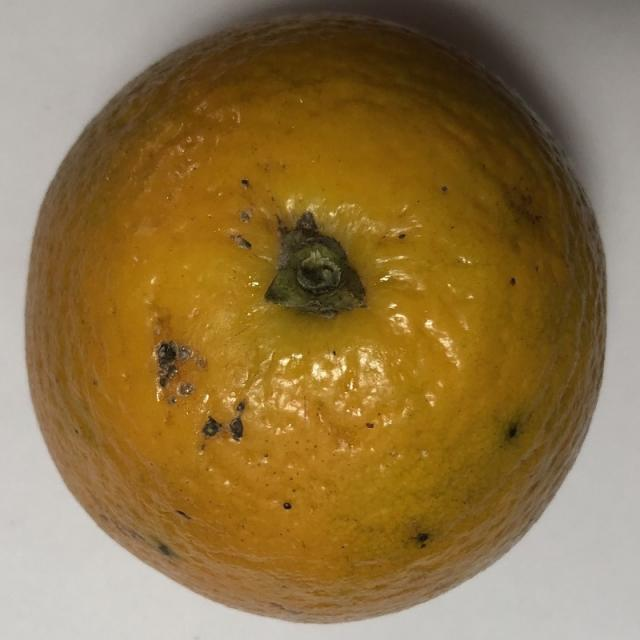blackspot: (16, 4, 622, 635)
